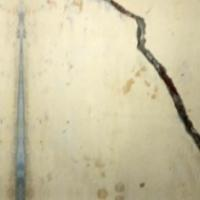crack: (91, 0, 199, 170)
